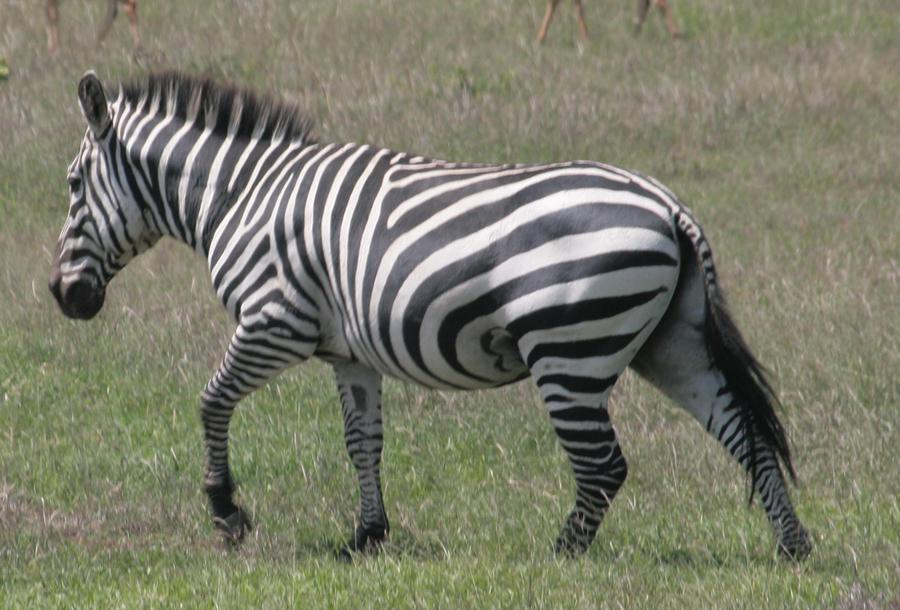zebra_plains: (189, 144, 656, 408)
